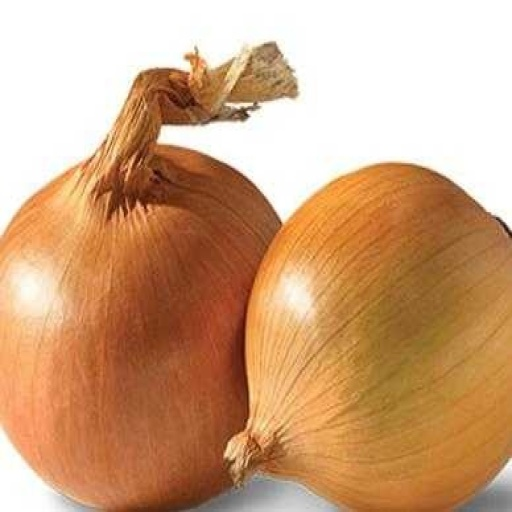Zwiebel: (1, 42, 301, 512), (224, 162, 512, 511)
